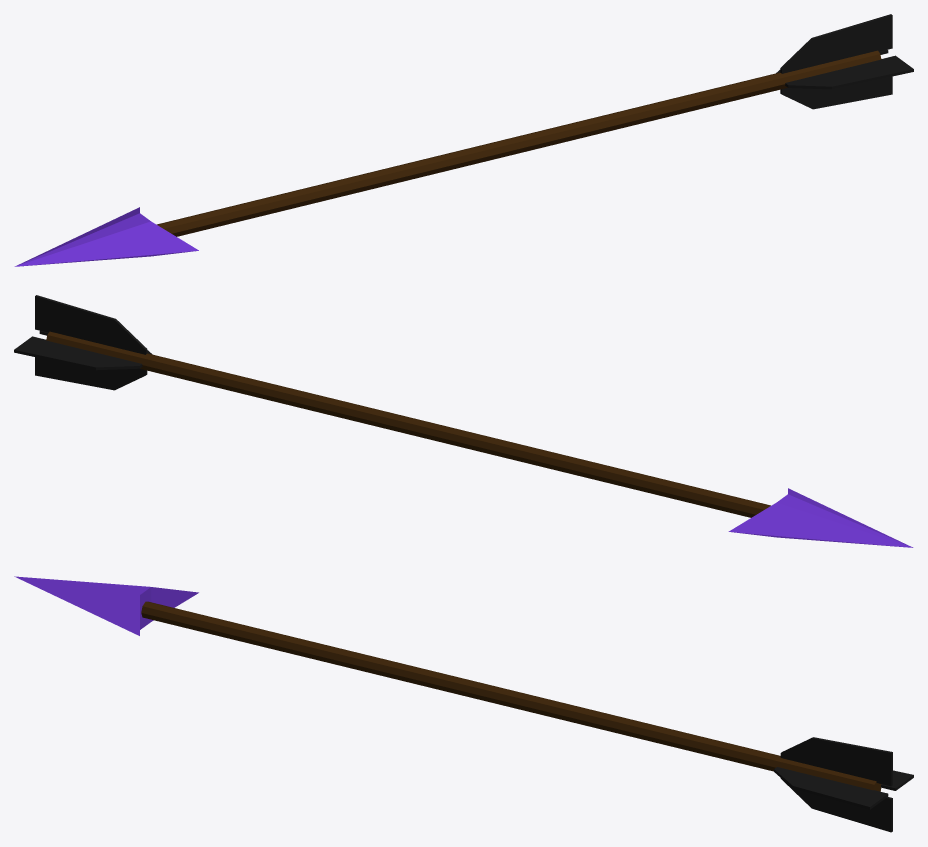
The model's file is poison_arrow.fbx.
3 views of the same model, one above another, from view 1: azimuth 30°, elevation 25°; view 2: azimuth 150°, elevation 25°; view 3: azimuth 330°, elevation 25° (orthographic).
Parts seen in each view (by area): view 1: Poison_Arrow; view 2: Poison_Arrow; view 3: Poison_Arrow.
Part boxes in pixels (x1,y1,x2,y2): Poison_Arrow: (14, 14, 913, 266); Poison_Arrow: (14, 295, 913, 547); Poison_Arrow: (14, 576, 913, 832).
Size of the model in its own units: 0.8586 by 0.0742 by 0.1011.
